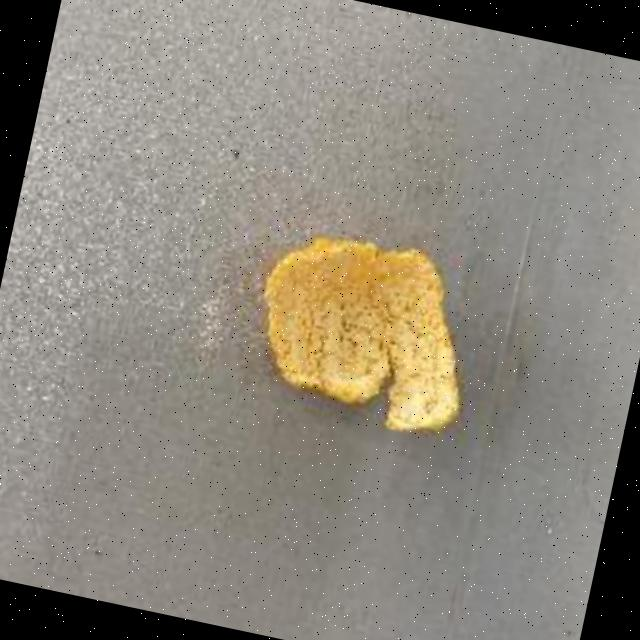orange-peel: (238, 216, 492, 444)
